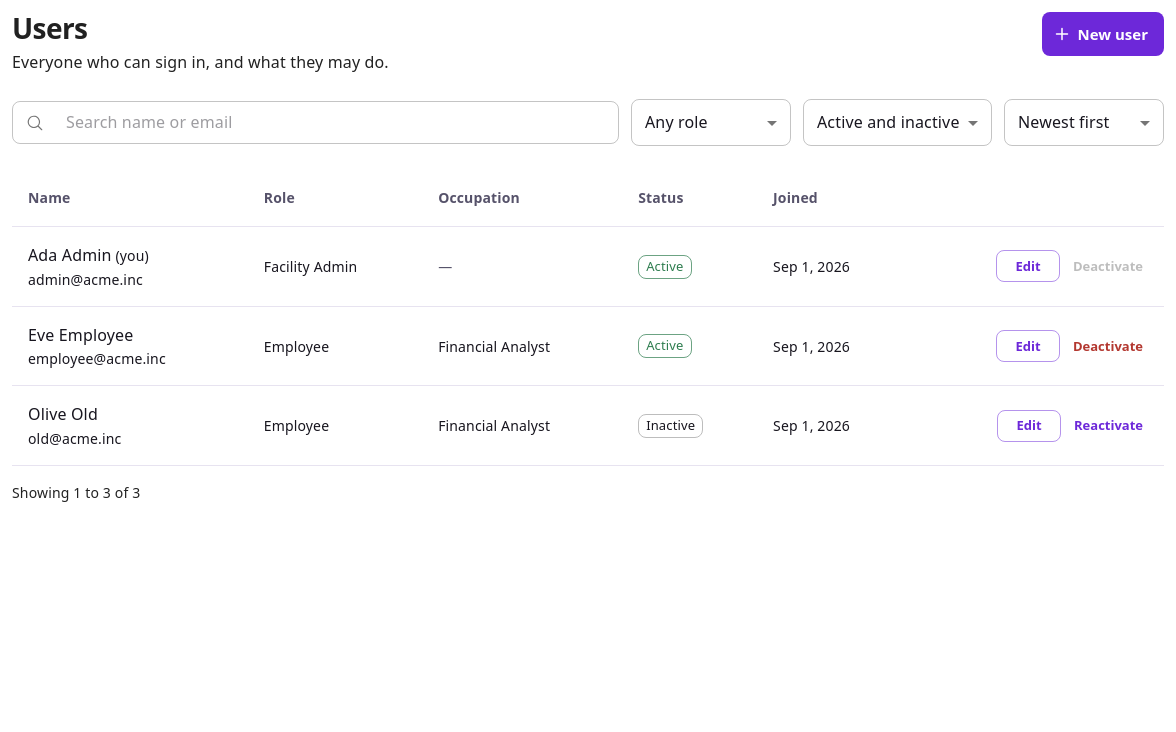
Scenario: UsersPage › reactivates in one click
This screenshot has width=1176, height=732.
Check: the text "Showing 1 to 3 of 3" is shown, box [12,482,140,503]
Step 1. Click the button "Reactivate" → {"x": 1108, "y": 426}, box [1069,410,1148,442]
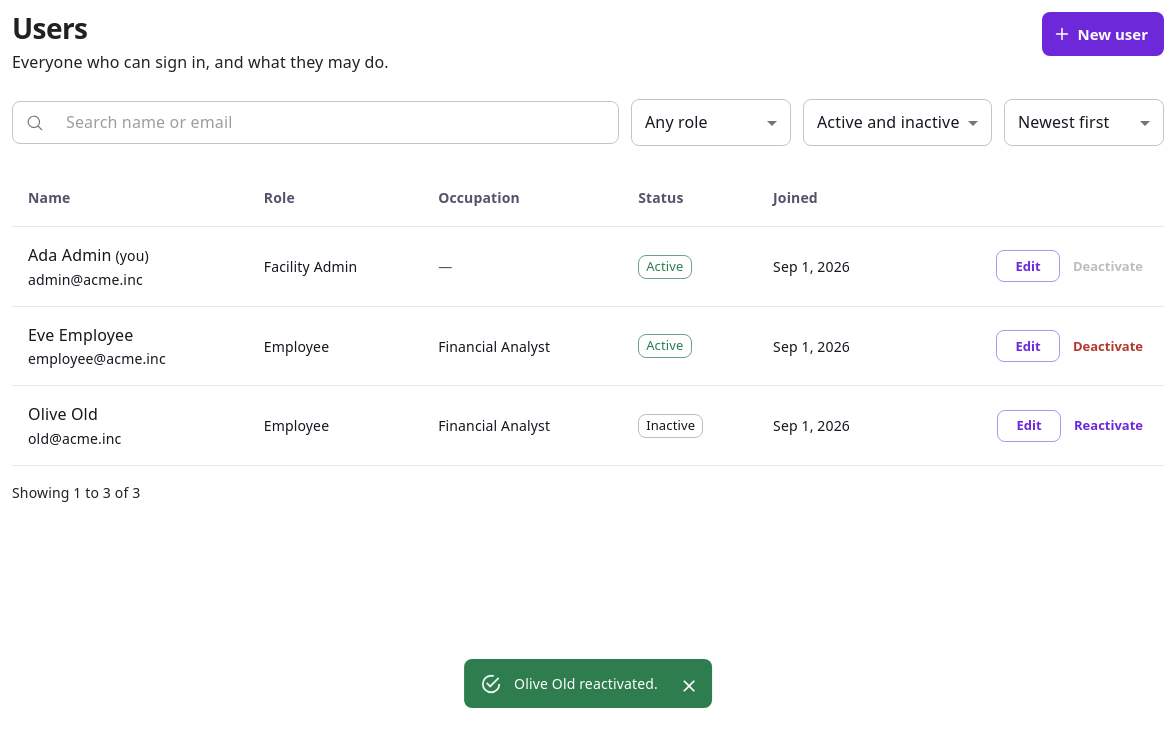
Check: the text "Olive Old reactivated." is shown, box [514,674,658,693]
